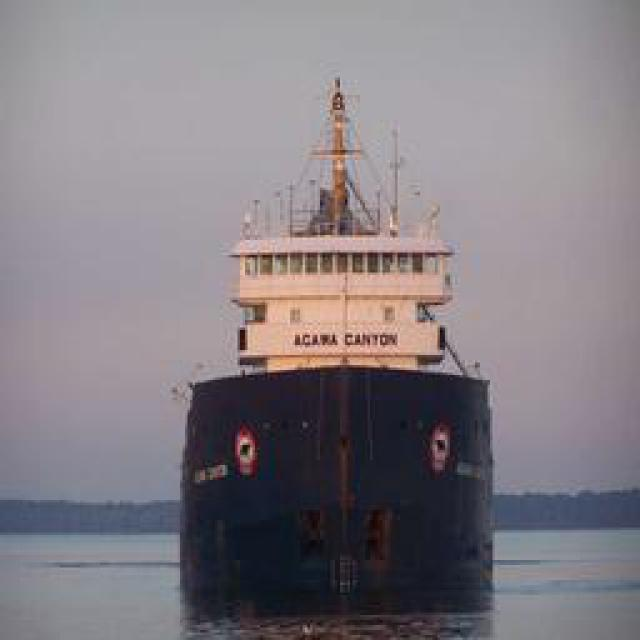Ship: (131, 67, 540, 630)
